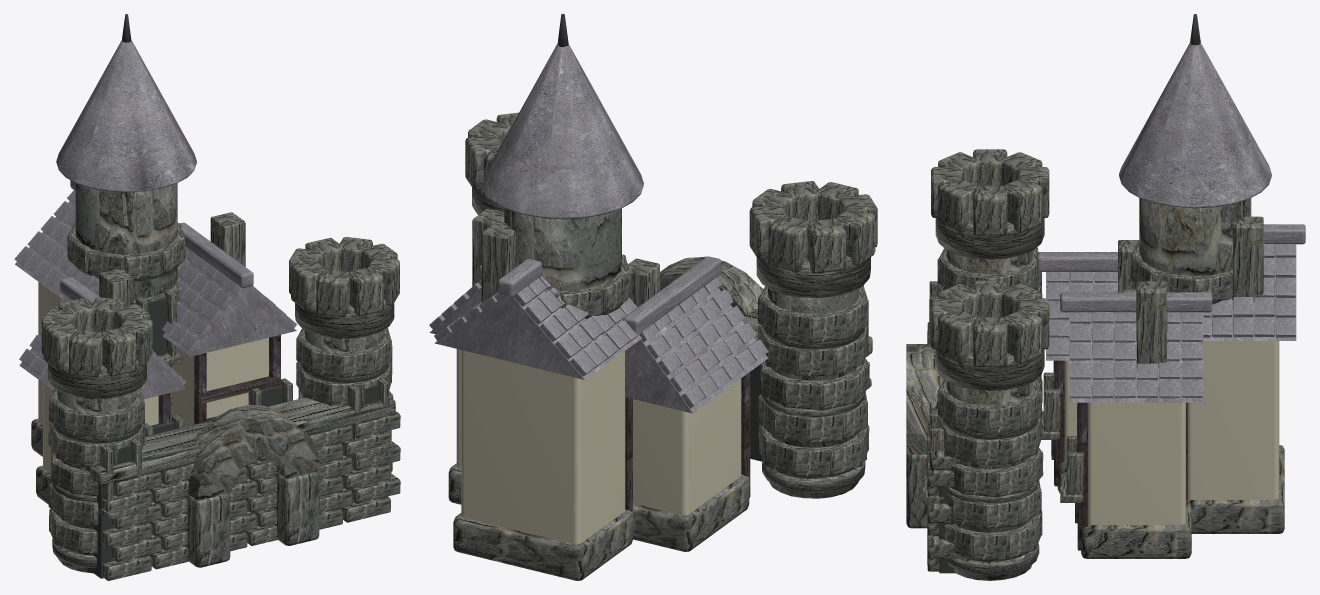
File: env-site-city1.glb
The picture shows the model from 3 angles, left to right: view 1: azimuth 30°, elevation 25°; view 2: azimuth 150°, elevation 25°; view 3: azimuth 270°, elevation 25°; orthographic projection. The views are drawn at different scales.
Parts seen in each view (by area): view 1: site city1 · authored textured miniature; view 2: site city1 · authored textured miniature; view 3: site city1 · authored textured miniature.
Part boxes in pixels (<box>): site city1 · authored textured miniature: <box>14,14,400,580</box>; site city1 · authored textured miniature: <box>429,14,877,580</box>; site city1 · authored textured miniature: <box>906,14,1305,580</box>.
Bounding box in the file's own units: 1.38 × 1.74 × 1.28.
5 materials, 3 textured.
